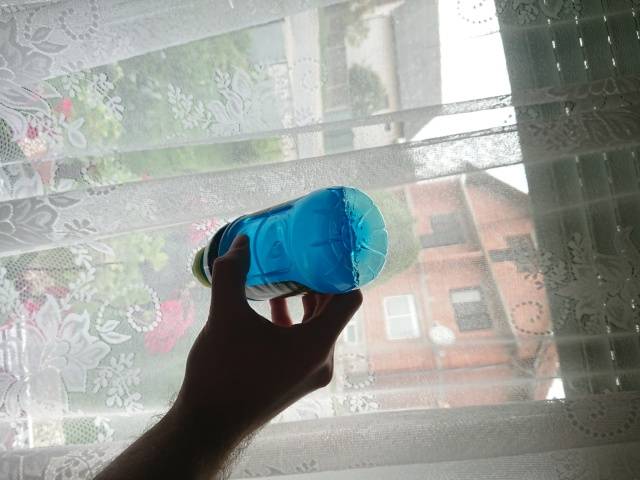Vindi Iso Sport Forest Strawberries 500mL: (189, 184, 392, 302)
